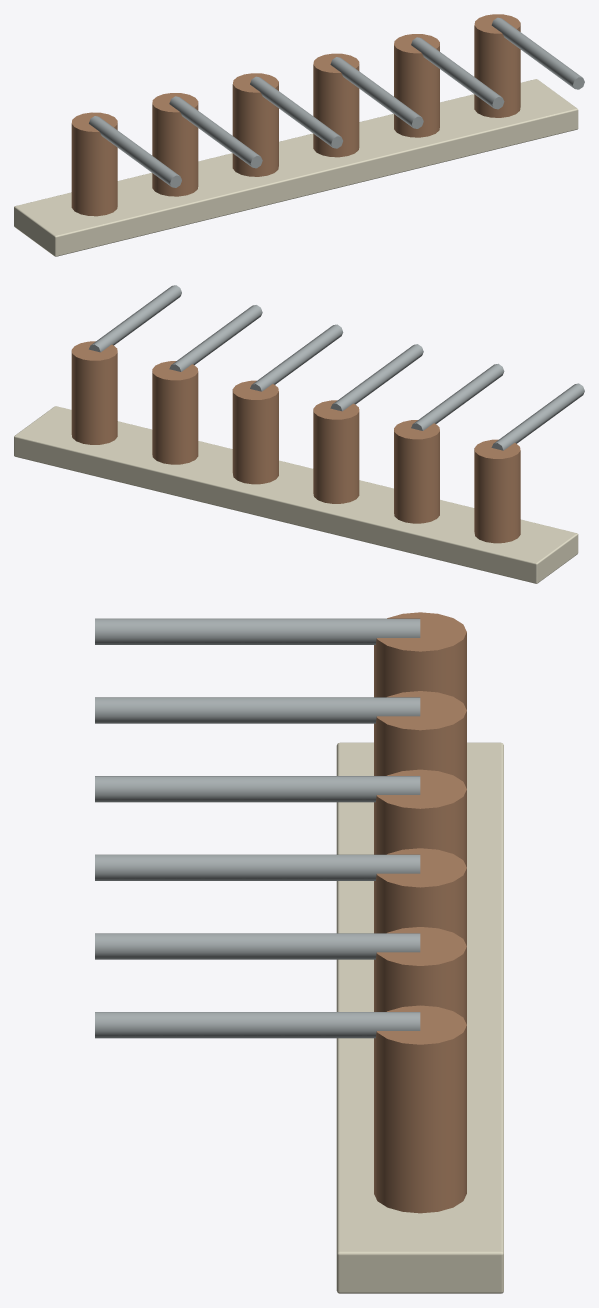
The model's file is scavengers-loot-library-resistor-strip-bb956f0e__2507.glb.
3 views of the same model, one above another, from view 1: azimuth 30°, elevation 25°; view 2: azimuth 150°, elevation 25°; view 3: azimuth 270°, elevation 25° (orthographic). The views are drawn at different scales.
Parts seen in each view (by area): view 1: resistor-strip; view 2: resistor-strip; view 3: resistor-strip.
Part boxes in pixels (left/top/right/bottom): resistor-strip: left=14, top=14, right=584, bottom=256; resistor-strip: left=14, top=285, right=584, bottom=583; resistor-strip: left=95, top=612, right=503, bottom=1293.
Size of the model in its own units: 0.13 by 0.0265 by 0.044.
